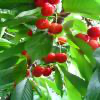Cherry leaf: (40, 34, 84, 59), (43, 3, 88, 27), (53, 53, 79, 75), (23, 8, 43, 29), (73, 60, 96, 75)
